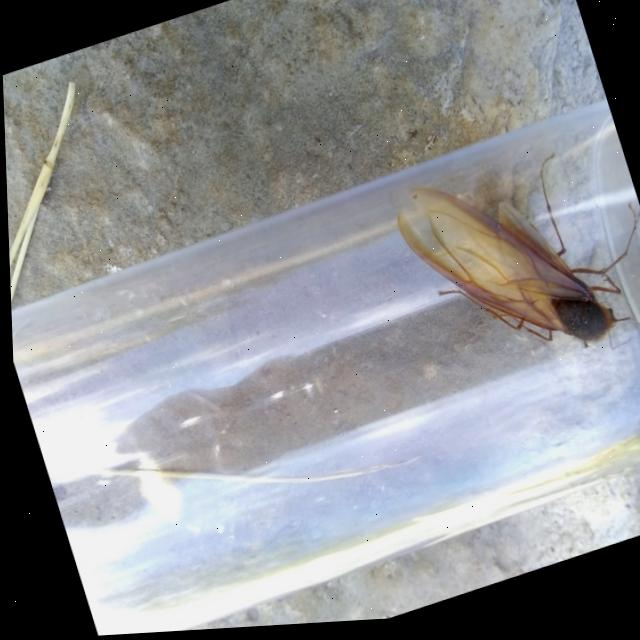Alive-Male-Alate: (384, 127, 640, 412)
